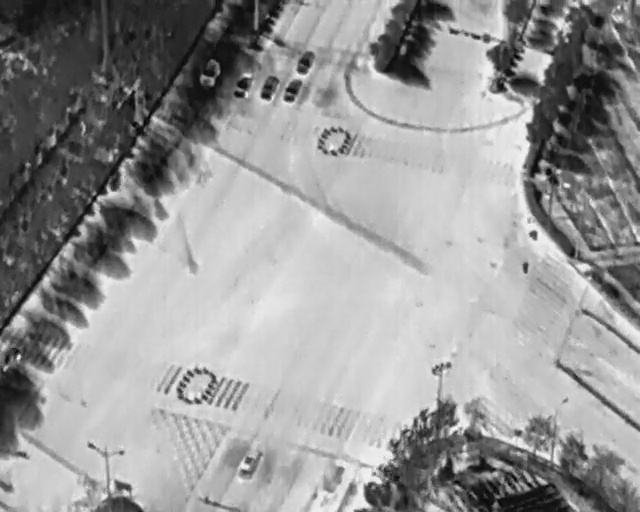Car: (196, 55, 223, 88), (238, 447, 262, 480), (232, 68, 255, 102), (258, 73, 281, 104), (281, 76, 304, 106), (295, 48, 318, 77)
